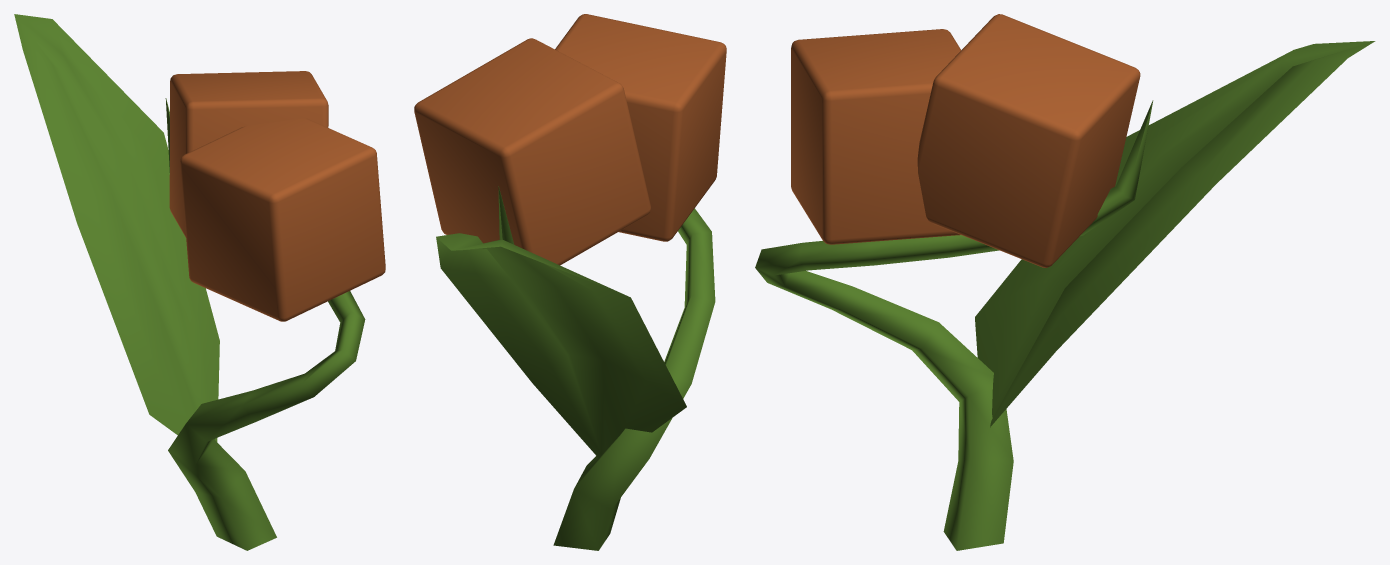
The model's file is caramel_plant.fbx.
3 views of the same model, side by side, from view 1: azimuth 30°, elevation 25°; view 2: azimuth 150°, elevation 25°; view 3: azimuth 270°, elevation 25° (orthographic). The views are drawn at different scales.
Visible parts, largest first — view 1: NurbsPath; view 2: NurbsPath; view 3: NurbsPath.
Boxes of the visible parts, box(x1,y1,x2,y2) form: NurbsPath: box(14, 14, 385, 550); NurbsPath: box(414, 14, 726, 550); NurbsPath: box(755, 14, 1375, 550).
Bounding box in the file's own units: 21.1 × 40.86 × 45.98.
